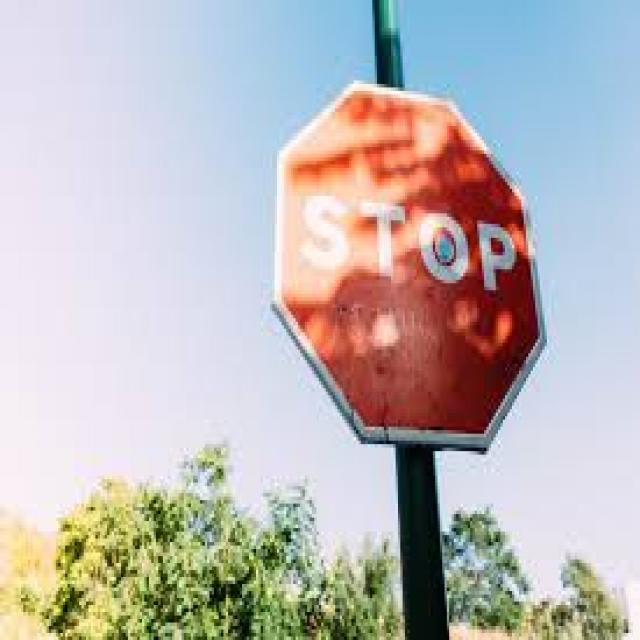stop-sign: (269, 80, 598, 442)
